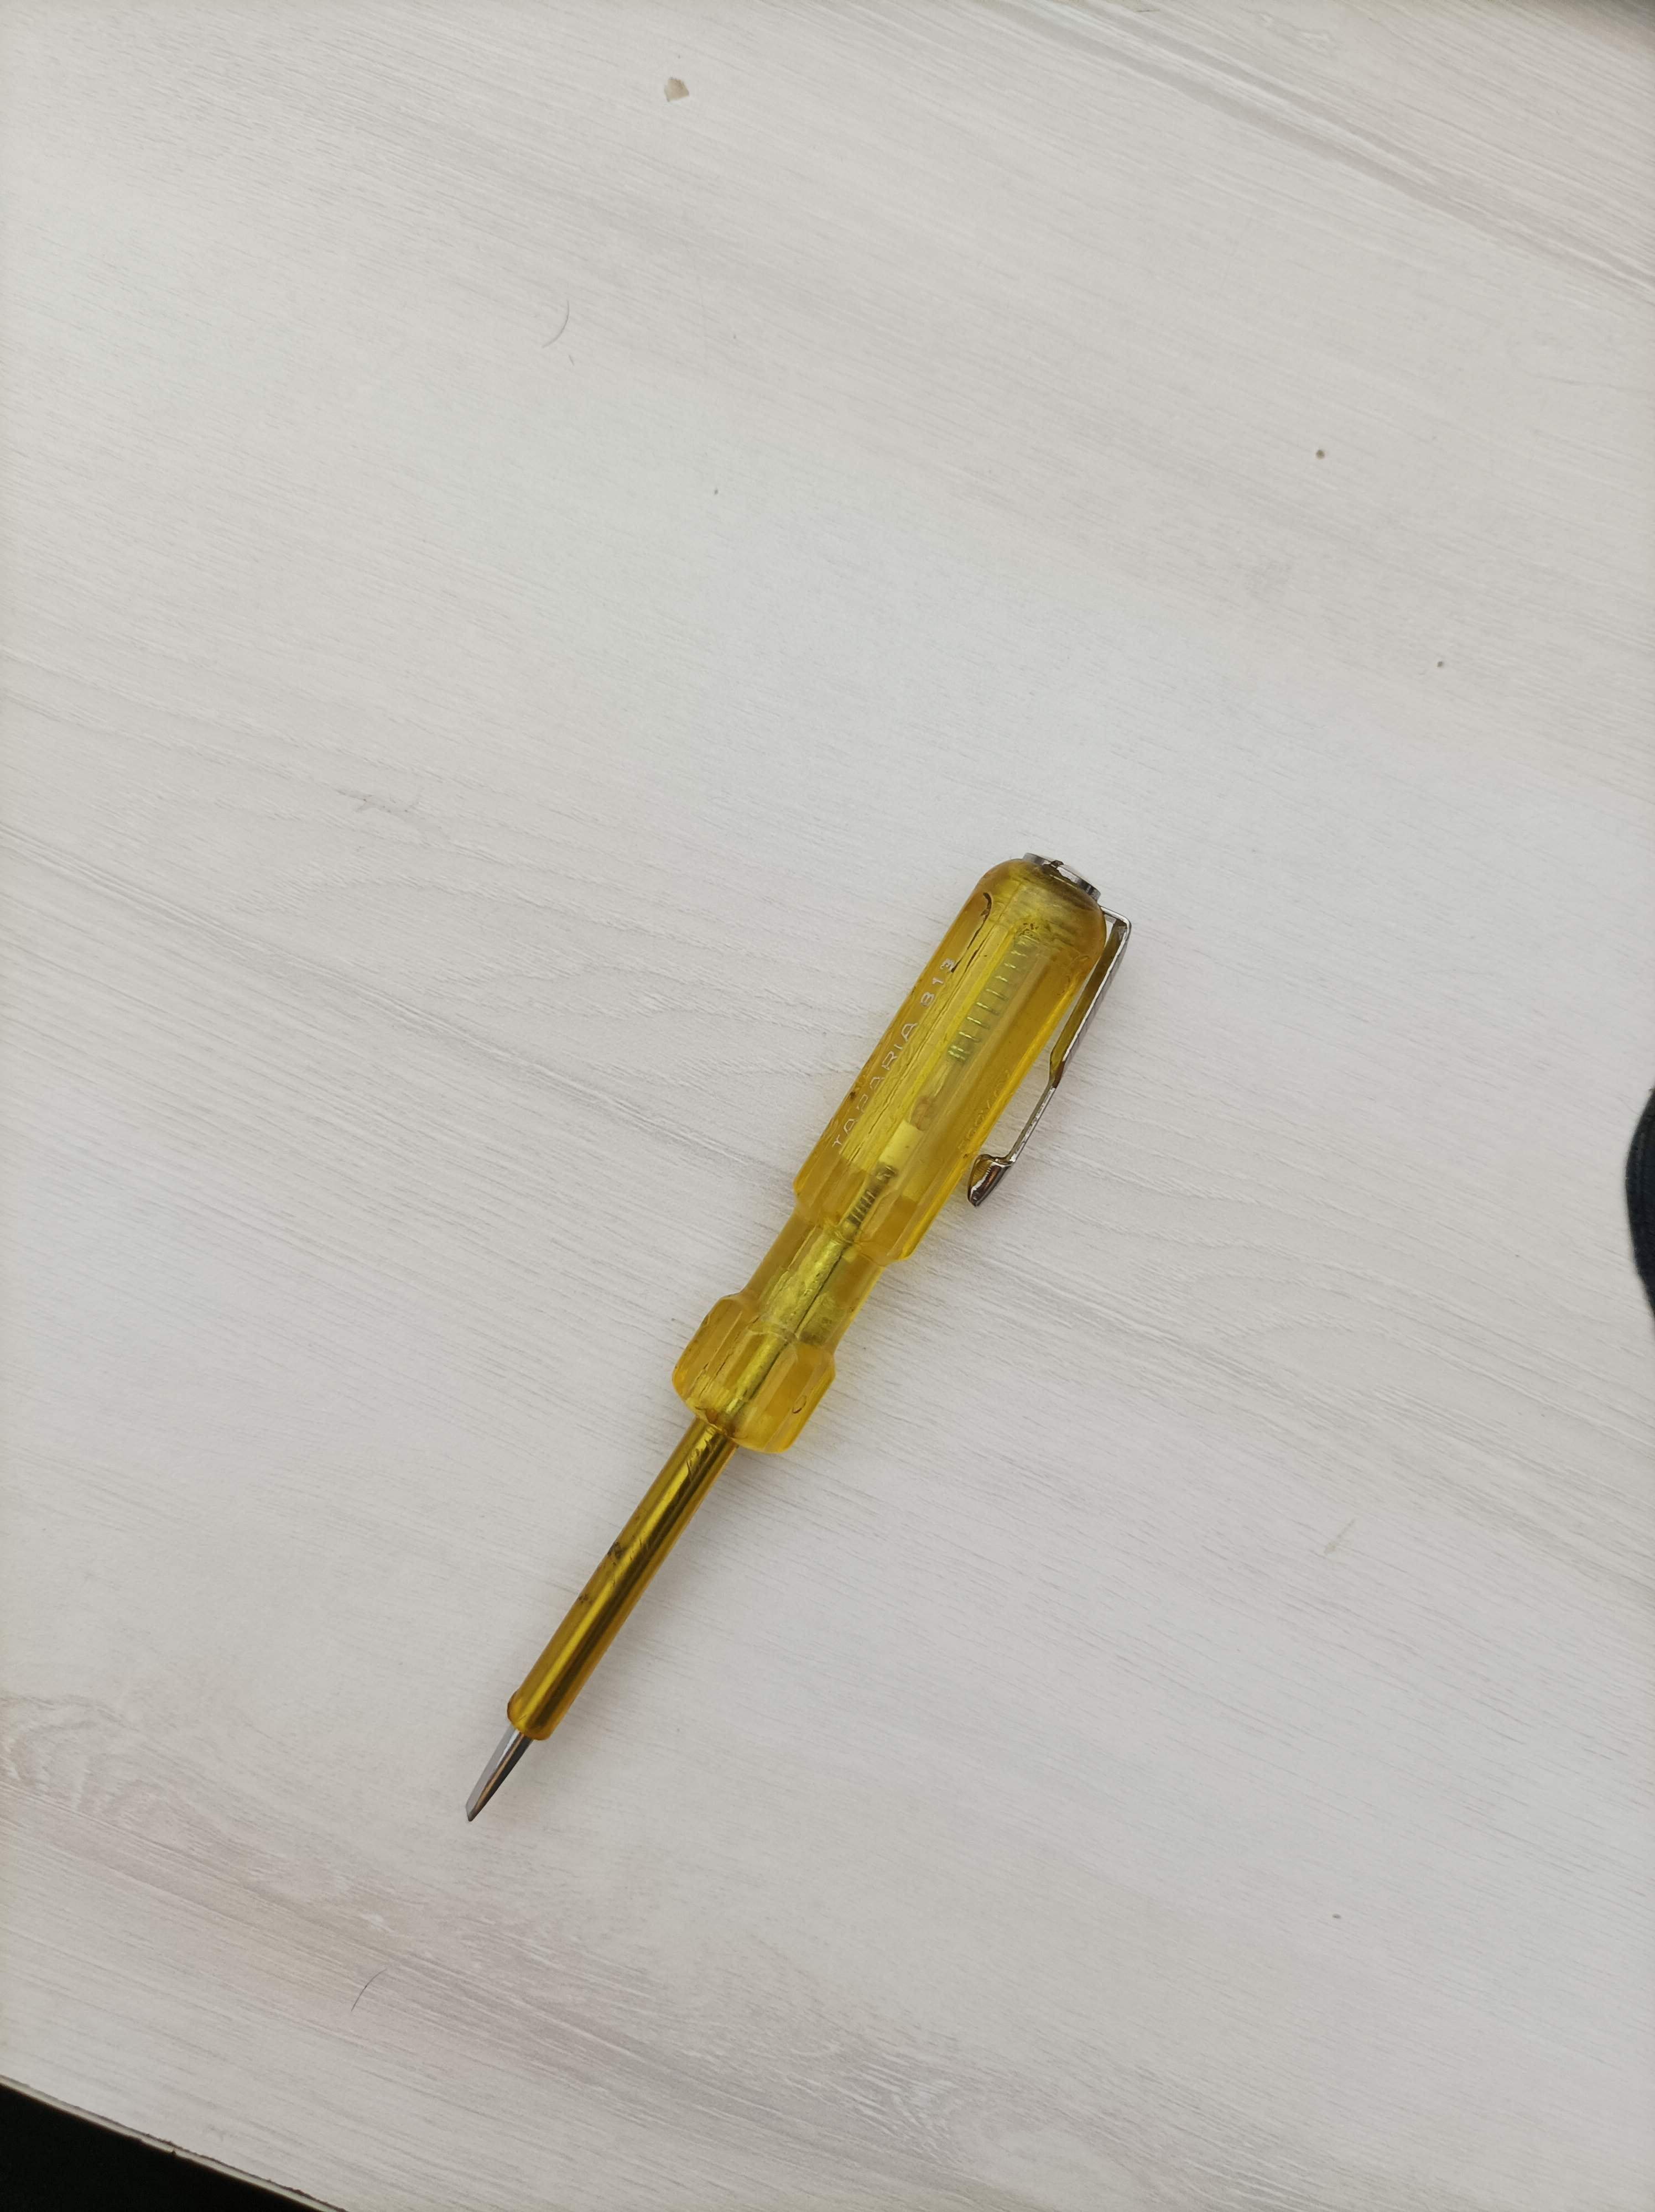screwdriver: (445, 841, 1146, 1838)
